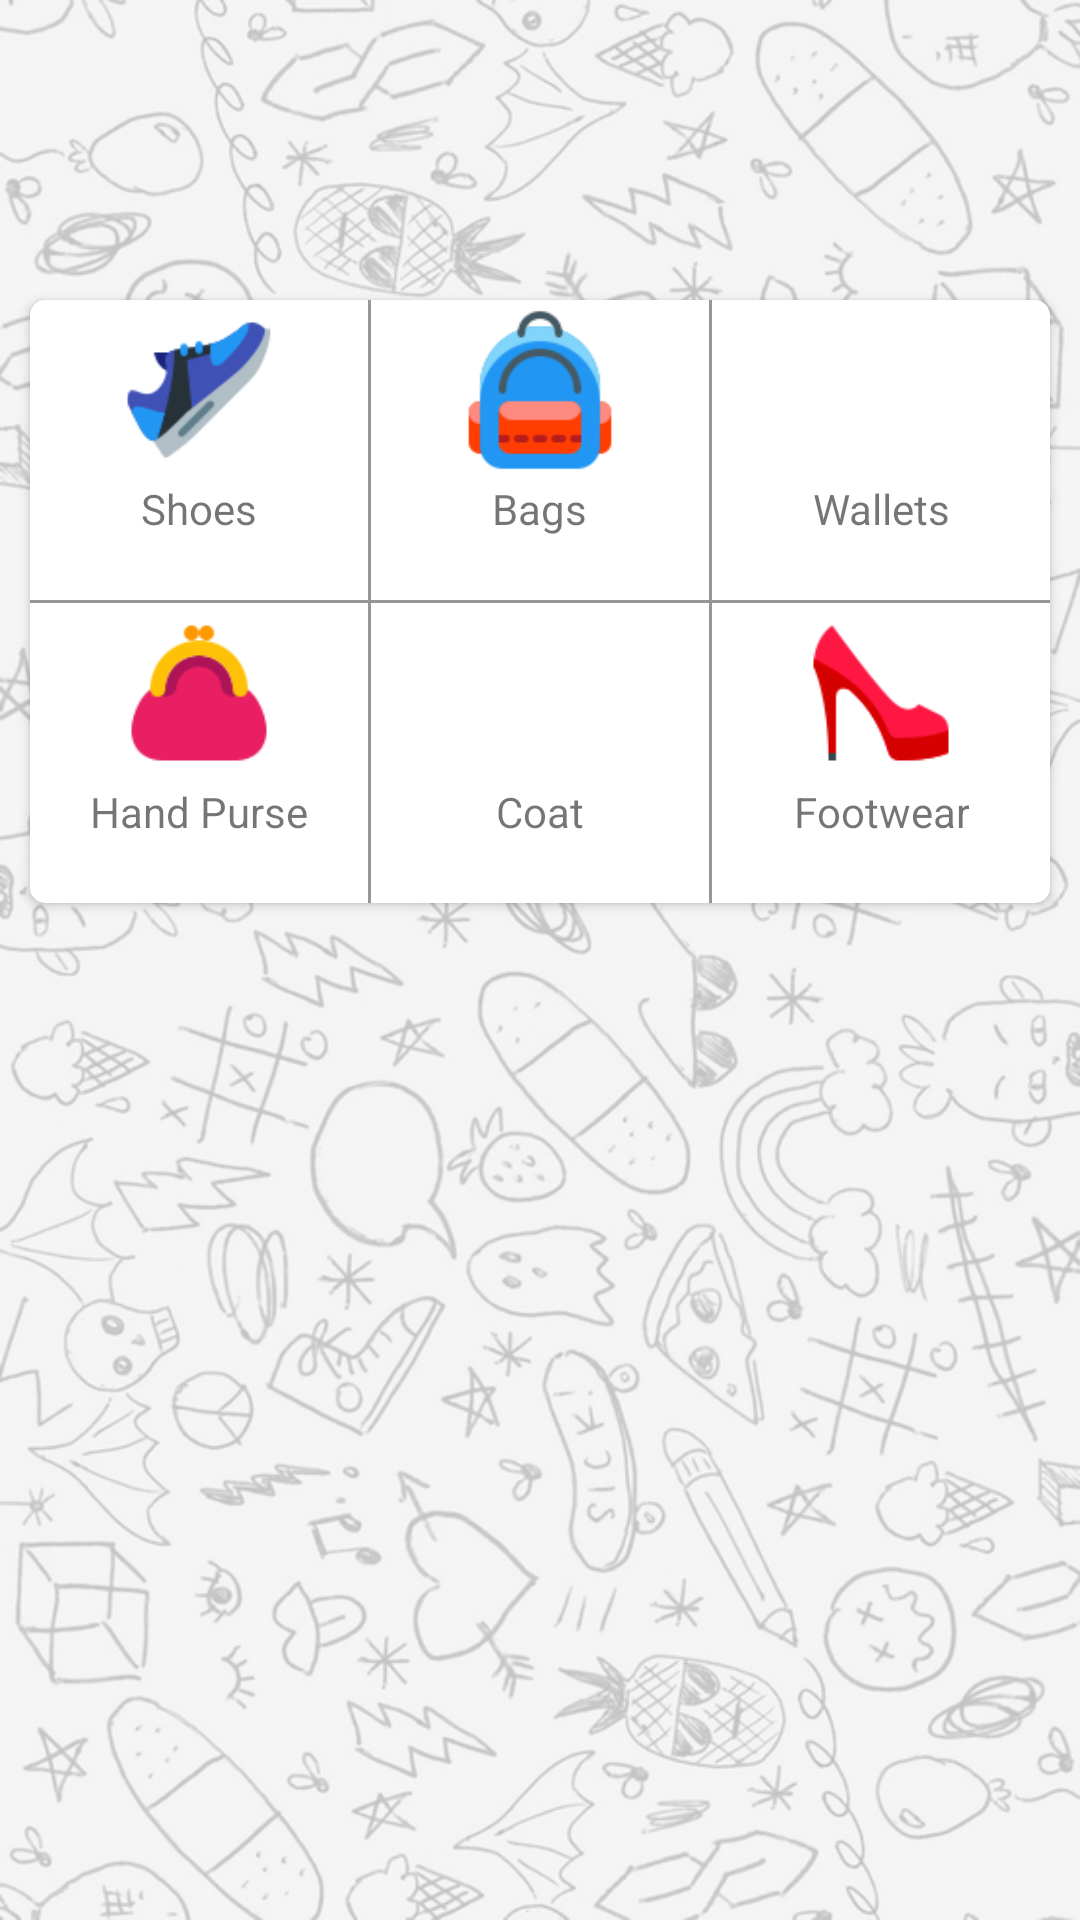

Screen size 1080×1920. Icon name, then its center in pixels as (x,y):
womenshoe: (881,693)
